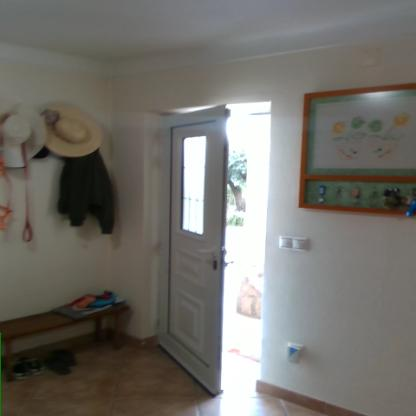semi: (145, 98, 282, 393)
